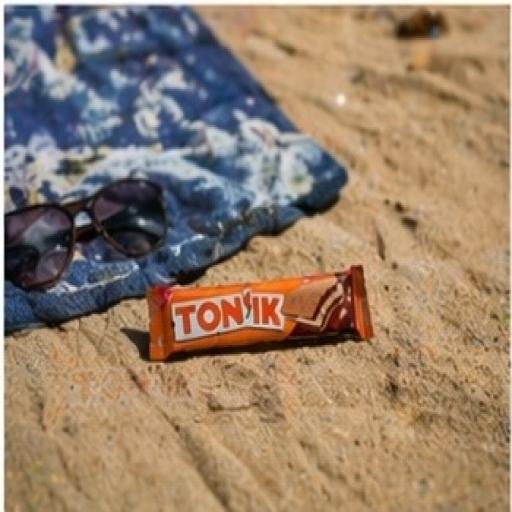tonik: (97, 216, 433, 410)
